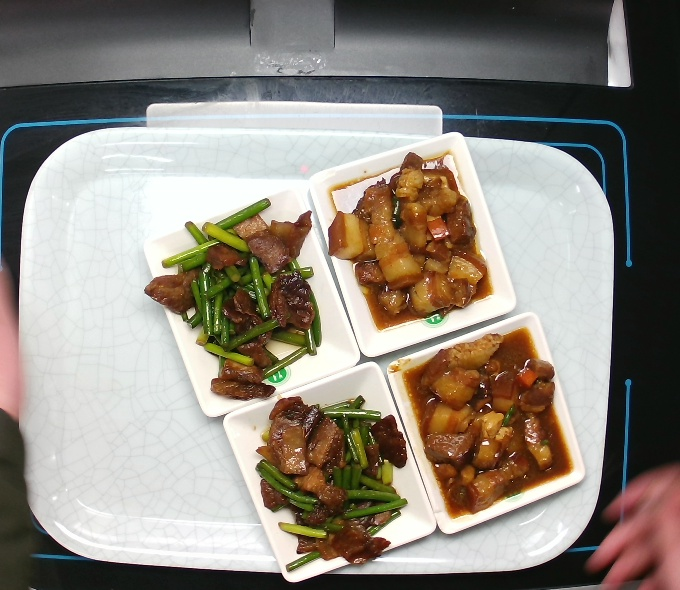wcq-HongShaoRou: (321, 148, 491, 329), (411, 324, 563, 520)
wcq-SuanMiaoChaoRou: (140, 192, 331, 405), (248, 389, 413, 574)
